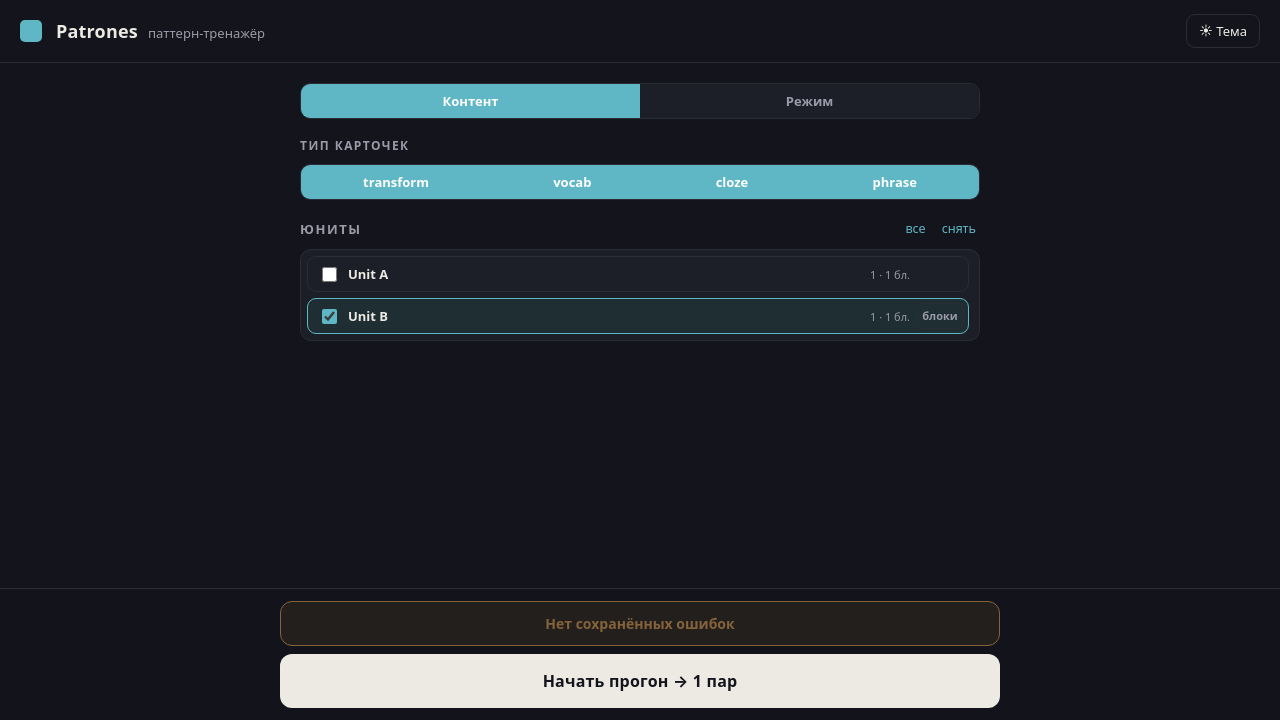
App › disables start in weak mode when no difficult cards
Click the tab "Режим" at (810, 101), box [640, 84, 979, 118]
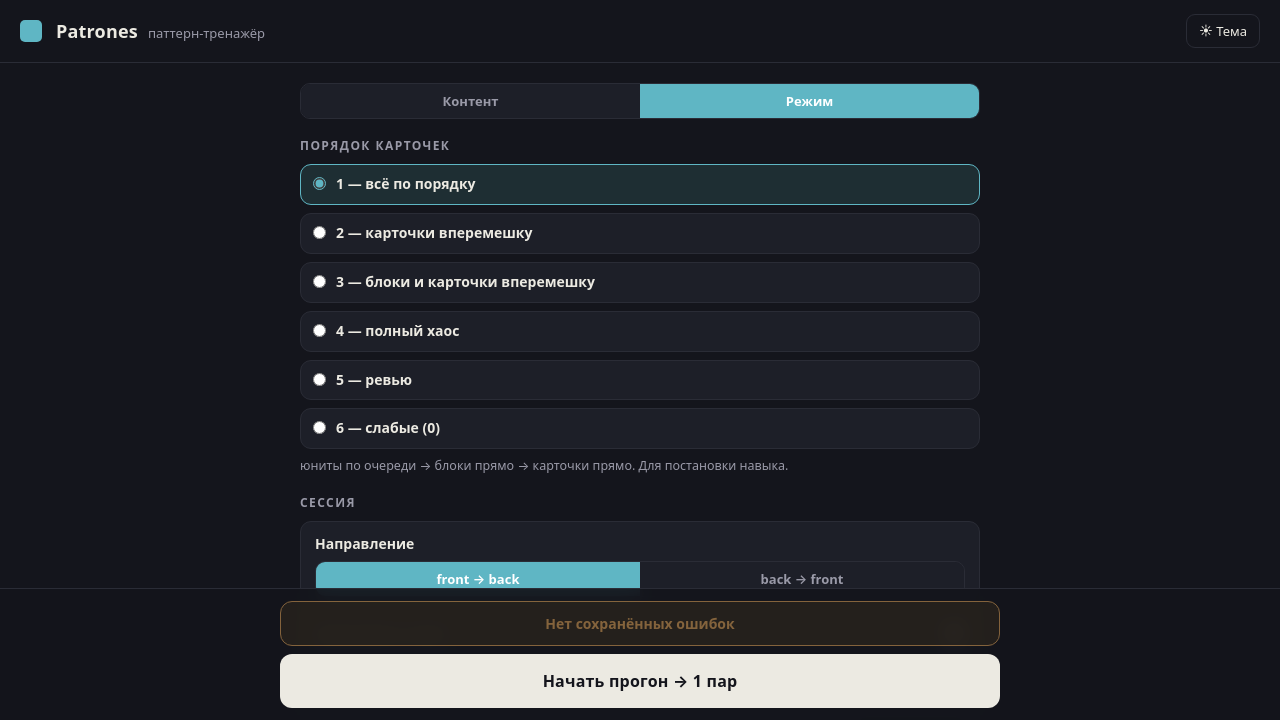
Click the radio button labelled "6 — слабые (0)" at (320, 428), box [313, 422, 326, 434]
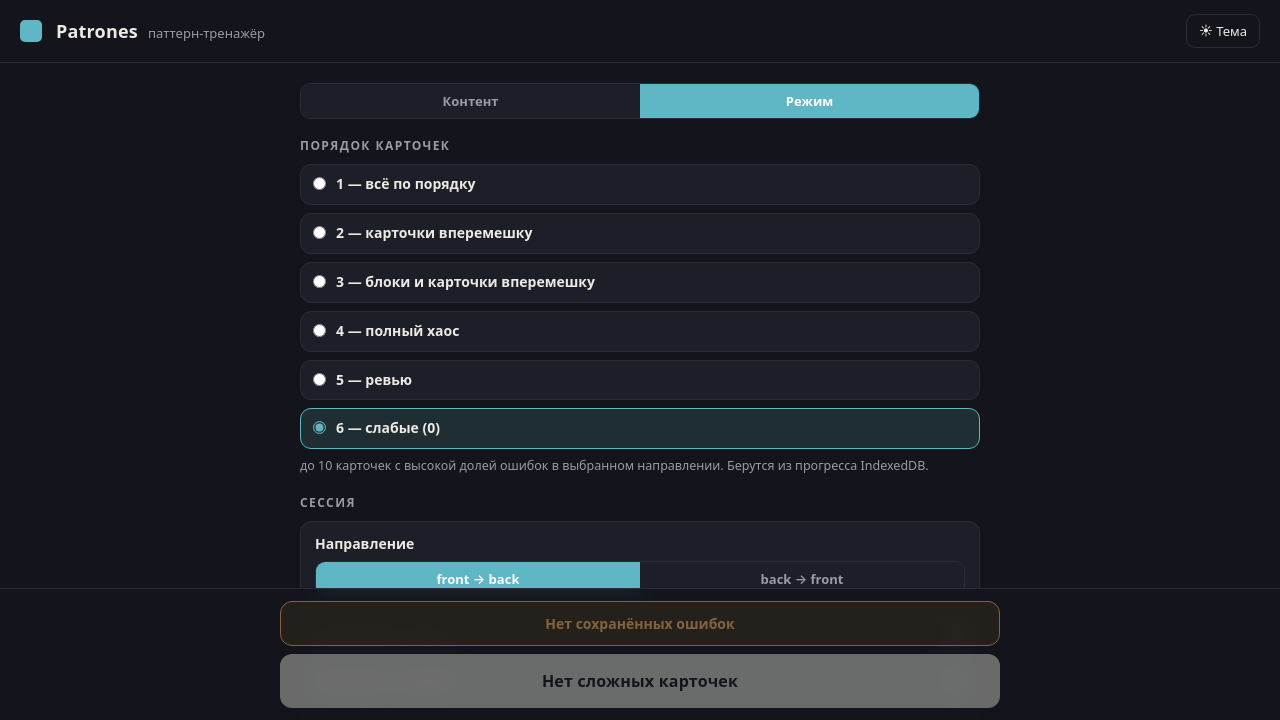
Expected: the text "Нет сложных карточек" is shown, [280, 654, 1000, 708]
Expected: the button with class "start" is disabled, [280, 654, 1000, 708]
